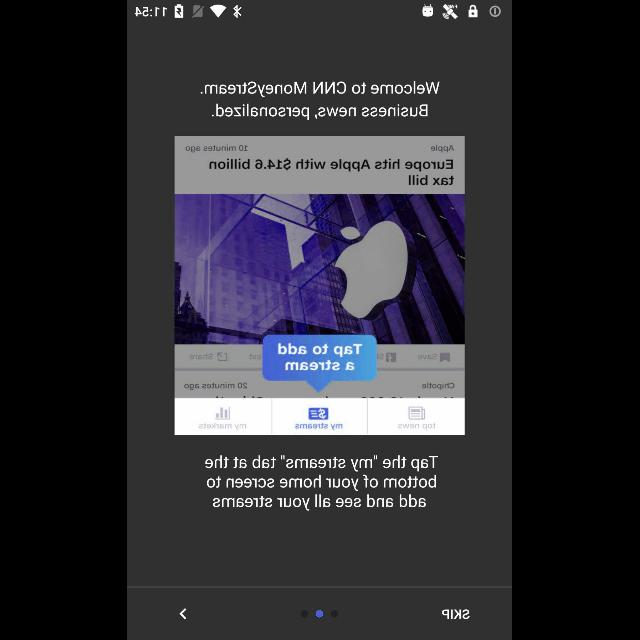icon: (180, 608, 188, 620)
image: (175, 137, 465, 436)
pageindicator: (301, 610, 339, 618)
text: (206, 455, 438, 511), (202, 80, 440, 98), (212, 104, 428, 120), (442, 609, 470, 619)
uppertaskbar: (128, 1, 512, 23)
